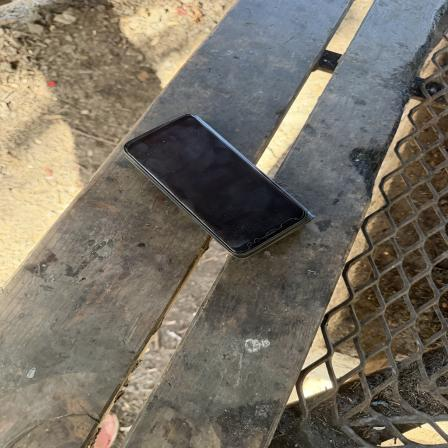phone: (124, 114, 318, 259)
